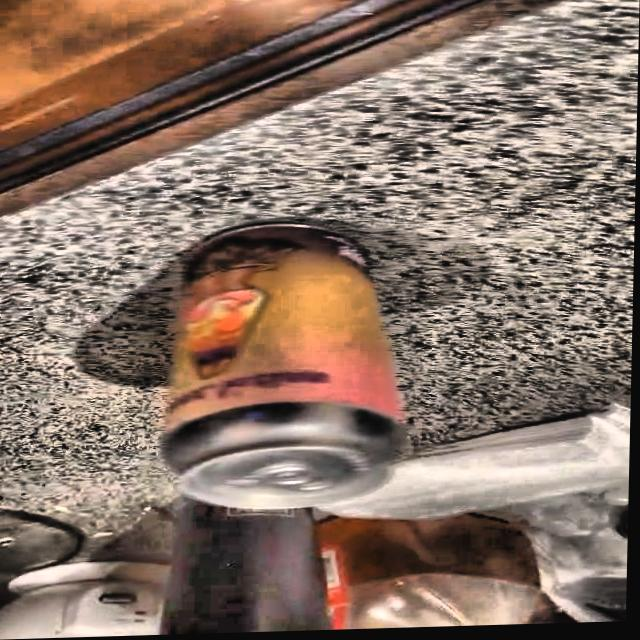can: (156, 211, 418, 518)
